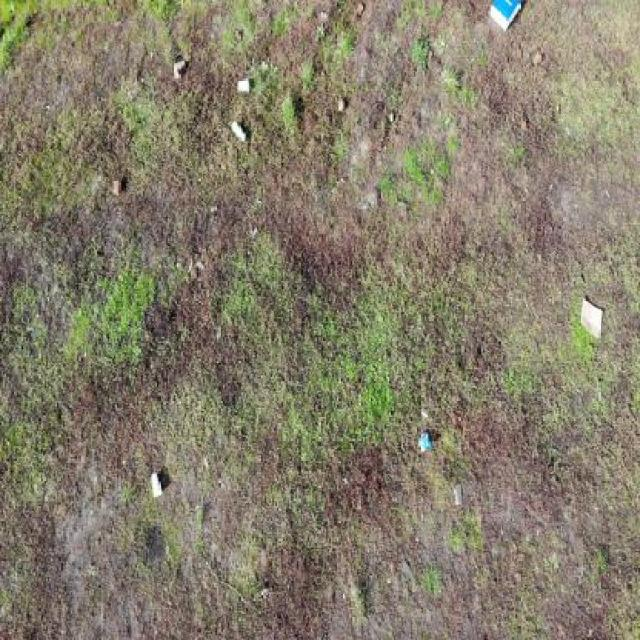Garbage: (489, 0, 522, 36), (580, 294, 603, 342), (230, 119, 247, 144), (417, 429, 432, 454), (149, 473, 164, 497), (236, 76, 251, 92)
